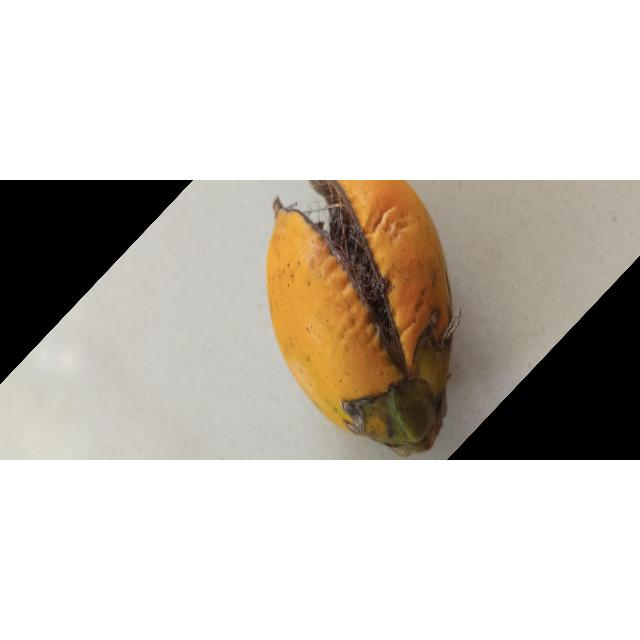damaged: (266, 180, 456, 457)
